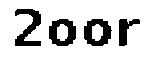2: (10, 5, 47, 50)
o: (82, 15, 113, 50), (50, 15, 76, 49)
r: (117, 11, 142, 51)
